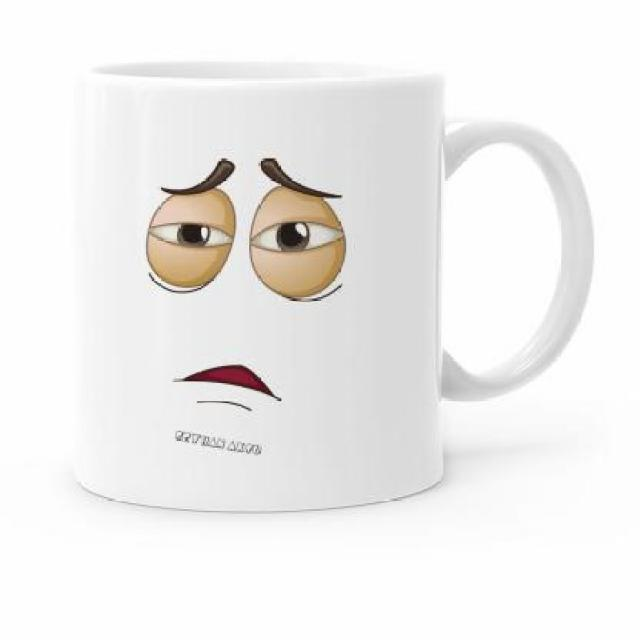taza: (70, 58, 598, 516)
